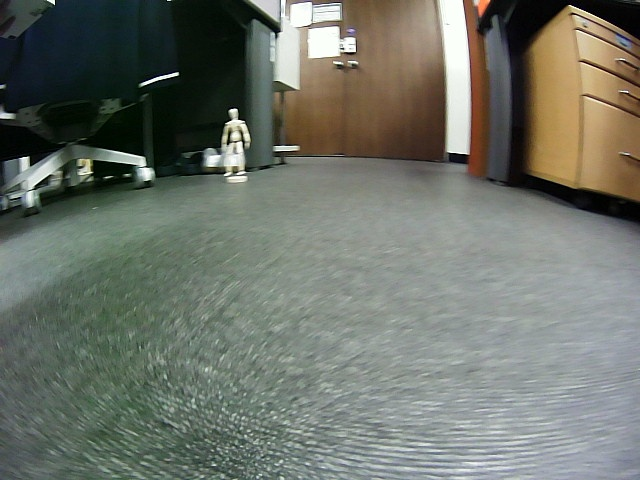person: (221, 108, 251, 176)
